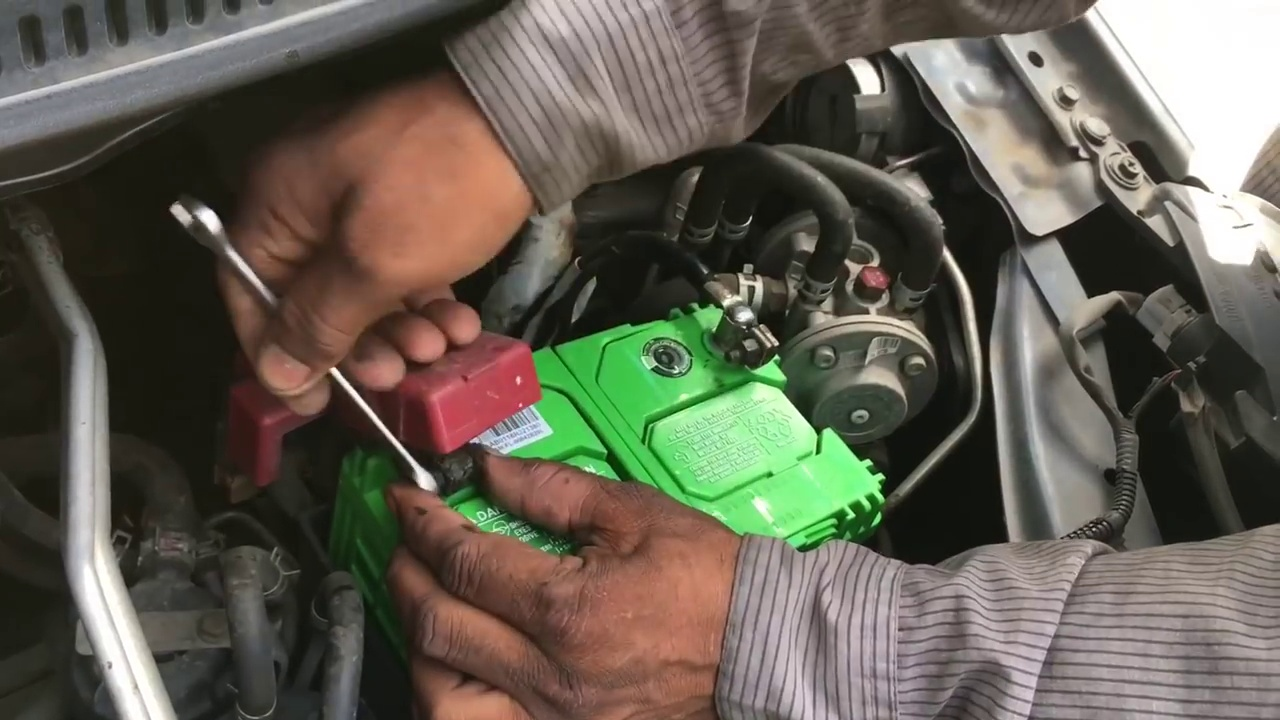battery: (350, 279, 886, 658)
neg_connected: (685, 247, 775, 392)
pos_touched: (297, 262, 570, 594)
